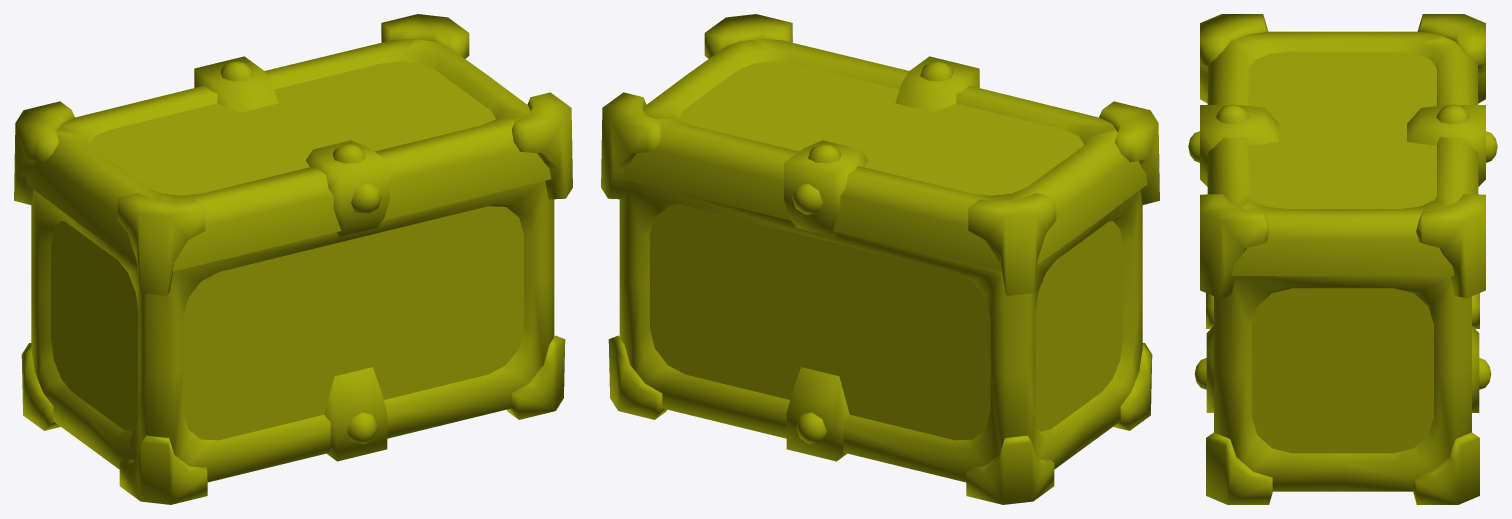
Rendered from SM_Crates_01.fbx.
The picture shows the model from 3 angles, left to right: view 1: azimuth 30°, elevation 25°; view 2: azimuth 150°, elevation 25°; view 3: azimuth 270°, elevation 25°; orthographic projection.
Visible parts, largest first — view 1: Crates_01; view 2: Crates_01; view 3: Crates_01.
Part boxes in pixels (x1,y1,x2,y2): Crates_01: (14, 14, 572, 504); Crates_01: (601, 14, 1159, 504); Crates_01: (1188, 14, 1497, 504).
Bounding box in the file's own units: 147 × 98.41 × 92.99.
